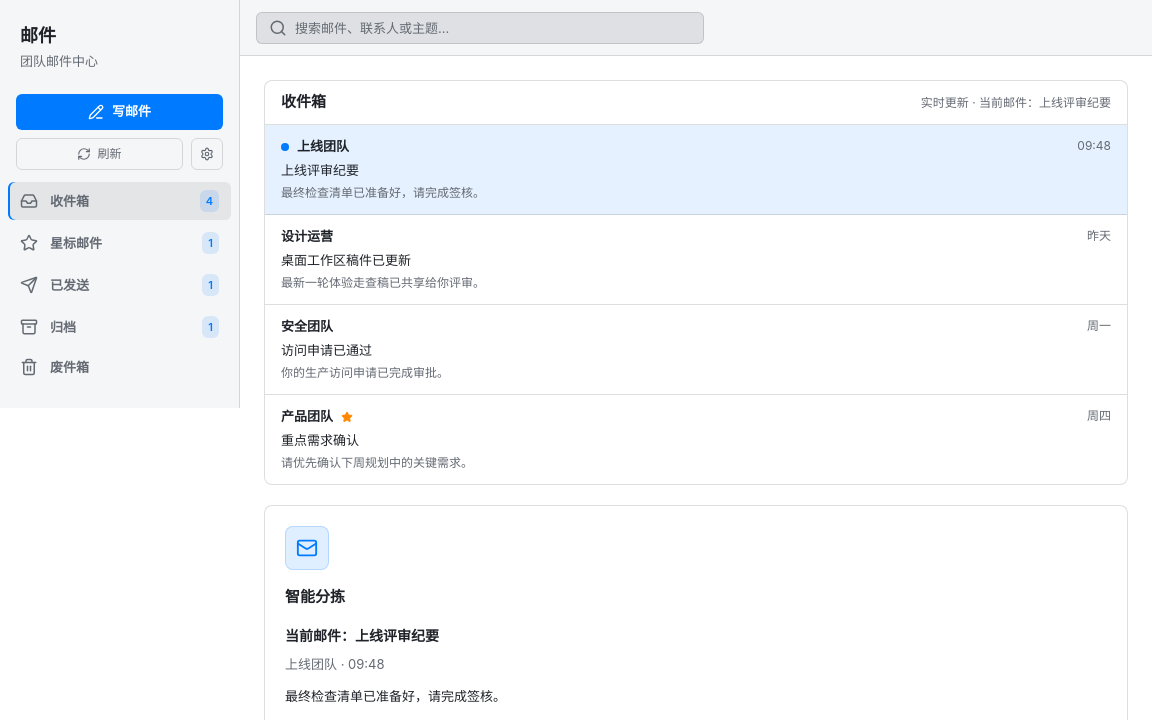
Test: workspace secondary pages › shows an empty state when an email search matches nothing
Type "zzz-no-match-xyz" into the field with test id "email-search-input" at [493, 28], box [295, 12, 691, 42]
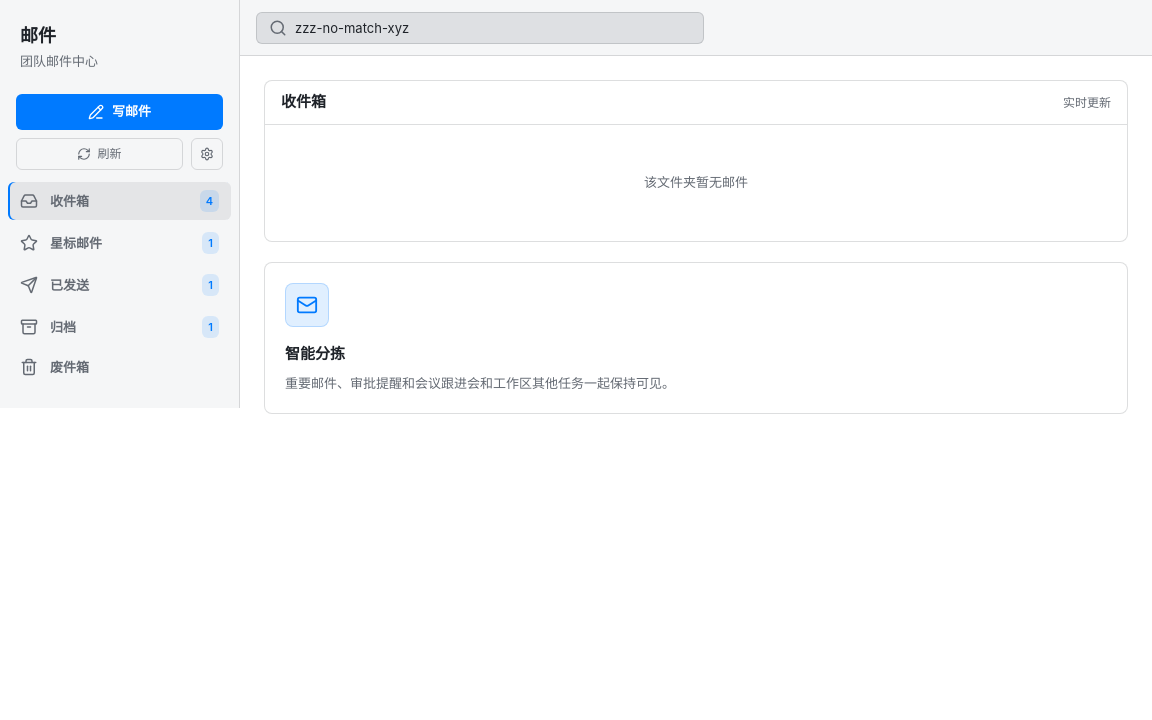
expect the text "该文件夹暂无邮件" is shown: met, box [644, 174, 748, 190]
